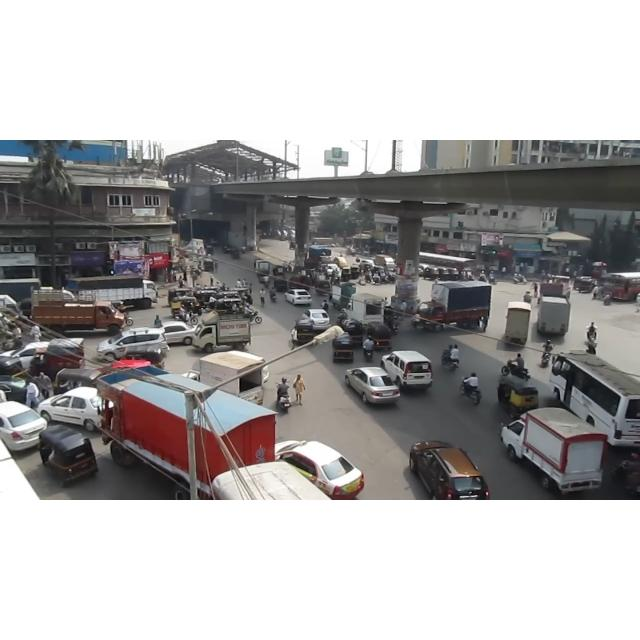auto: (41, 425, 100, 486), (498, 372, 539, 420), (335, 334, 360, 366), (371, 324, 393, 353), (297, 317, 315, 347)
car: (274, 440, 364, 500), (409, 440, 489, 500), (37, 387, 101, 431), (97, 326, 169, 360), (0, 401, 48, 451), (350, 366, 406, 403), (380, 351, 432, 389), (0, 341, 48, 369), (161, 321, 195, 345), (303, 309, 331, 331), (284, 288, 312, 305), (222, 245, 232, 253)
truck: (94, 368, 273, 500), (501, 407, 607, 493), (30, 290, 126, 334), (416, 281, 492, 331), (199, 351, 269, 405), (66, 275, 158, 309), (192, 311, 252, 353), (347, 292, 385, 328), (537, 297, 571, 335), (538, 283, 570, 304), (250, 257, 277, 273), (308, 245, 332, 261), (374, 254, 396, 270)
